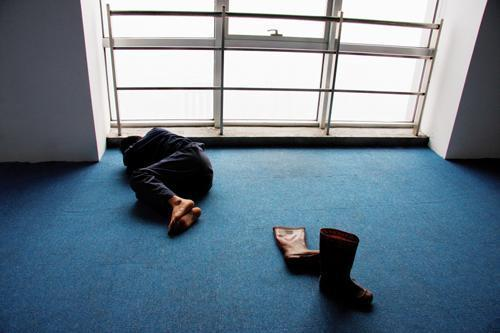Fall-Detected: (109, 123, 218, 236)
